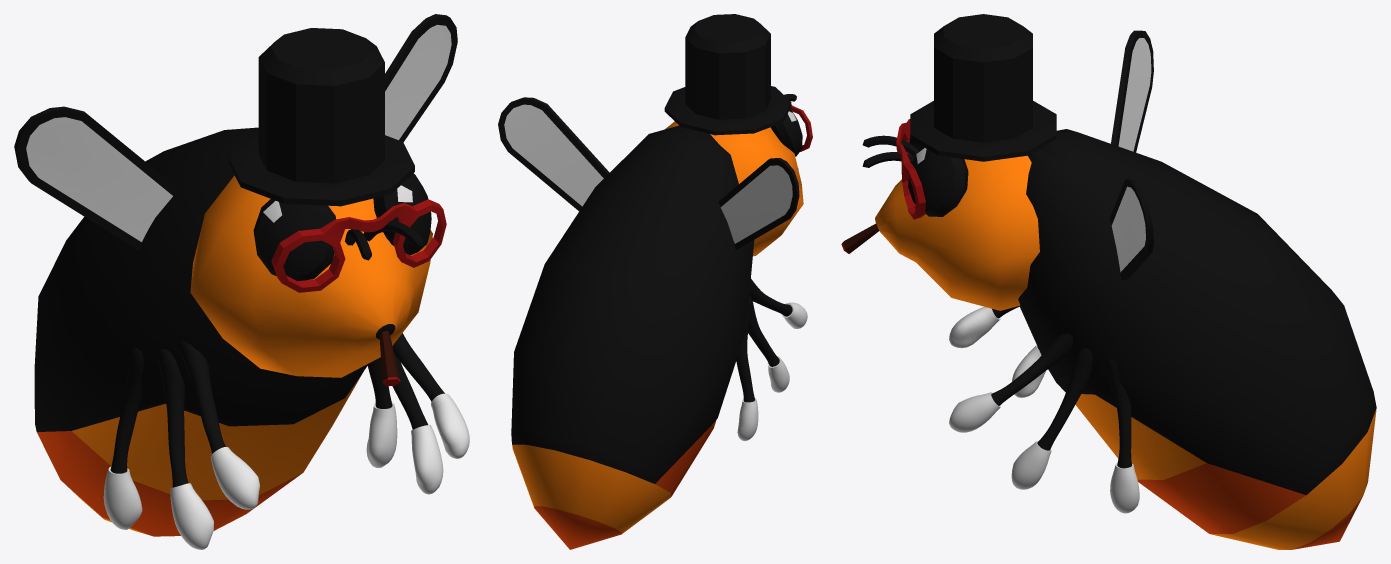
Rendered from Bee kleur.FBX.
The picture shows the model from 3 angles, left to right: view 1: azimuth 30°, elevation 25°; view 2: azimuth 150°, elevation 25°; view 3: azimuth 270°, elevation 25°; orthographic projection. The views are drawn at different scales.
Visible parts, largest first — view 1: BeeChill; view 2: BeeChill; view 3: BeeChill.
Part boxes in pixels (x1,y1,x2,y2): BeeChill: [14, 14, 469, 549]; BeeChill: [498, 14, 812, 549]; BeeChill: [841, 14, 1376, 549].
Bounding box in the file's own units: 52.4 × 67.05 × 69.72.
